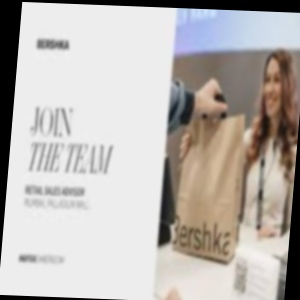bershka: (116, 98, 300, 300), (65, 17, 84, 44)
